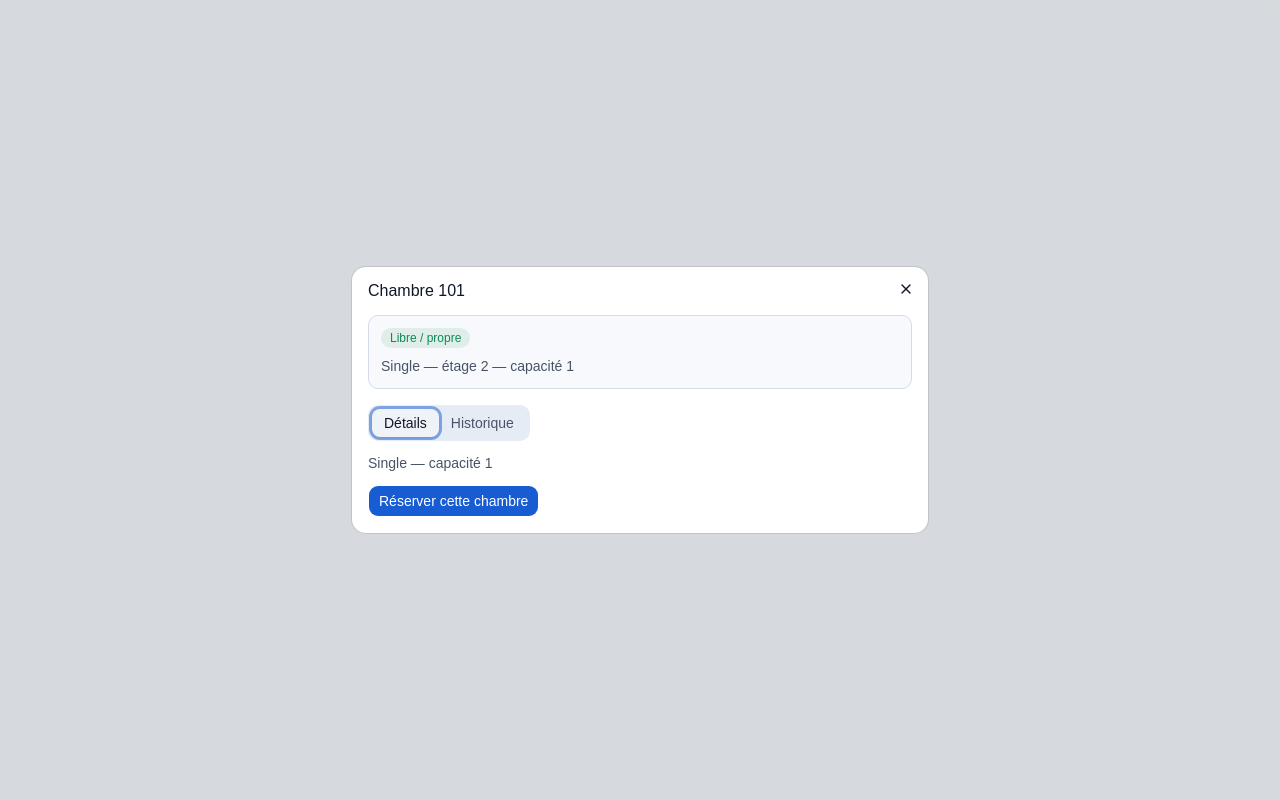
Scenario: RoomContextModal — DESIGN-006 › Historique : une source en échec n'empêche pas l'affichage des autres
Click the tab "Historique": (482, 423) x1=439 y1=409 x2=526 y2=437
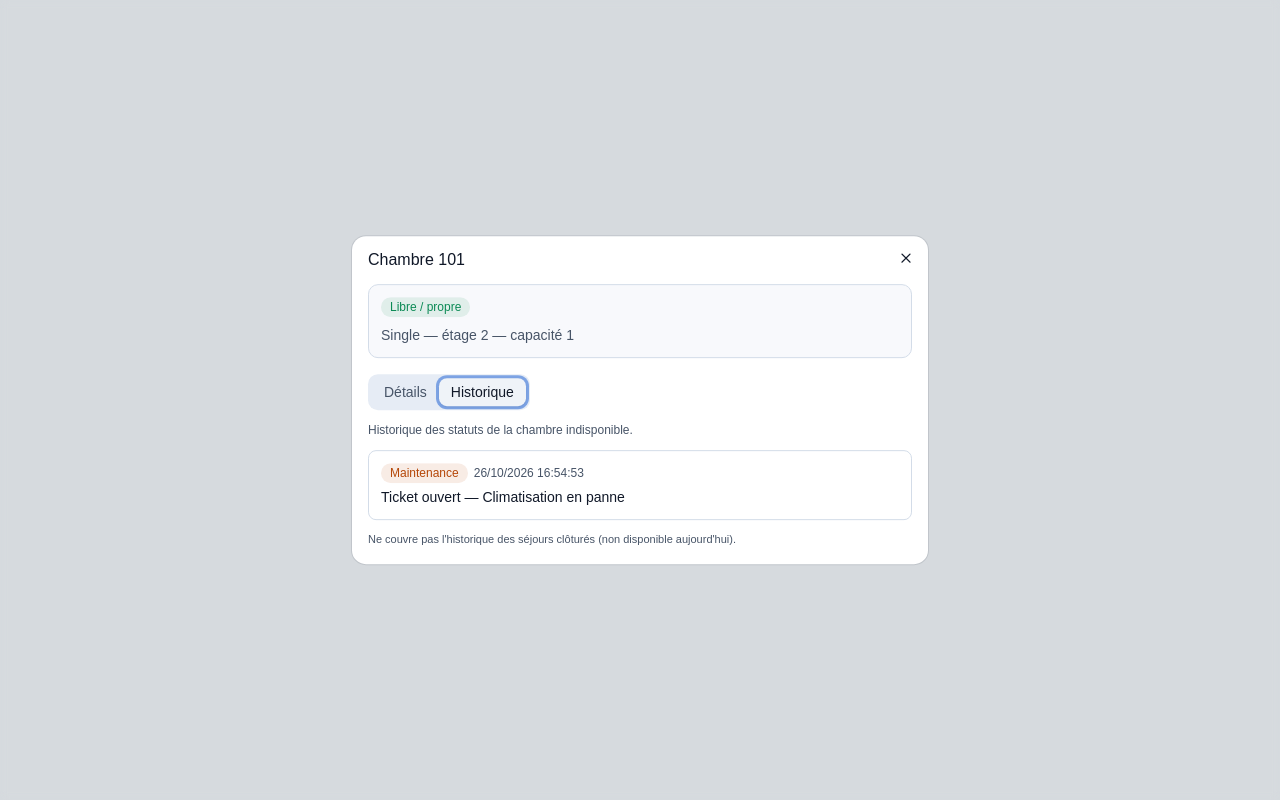
Now the text "Historique des statuts de la chambre indisponible." is shown, box x1=368 y1=423 x2=633 y2=437
Now the text "Ticket ouvert — Climatisation en panne" is shown, box x1=381 y1=489 x2=625 y2=505
